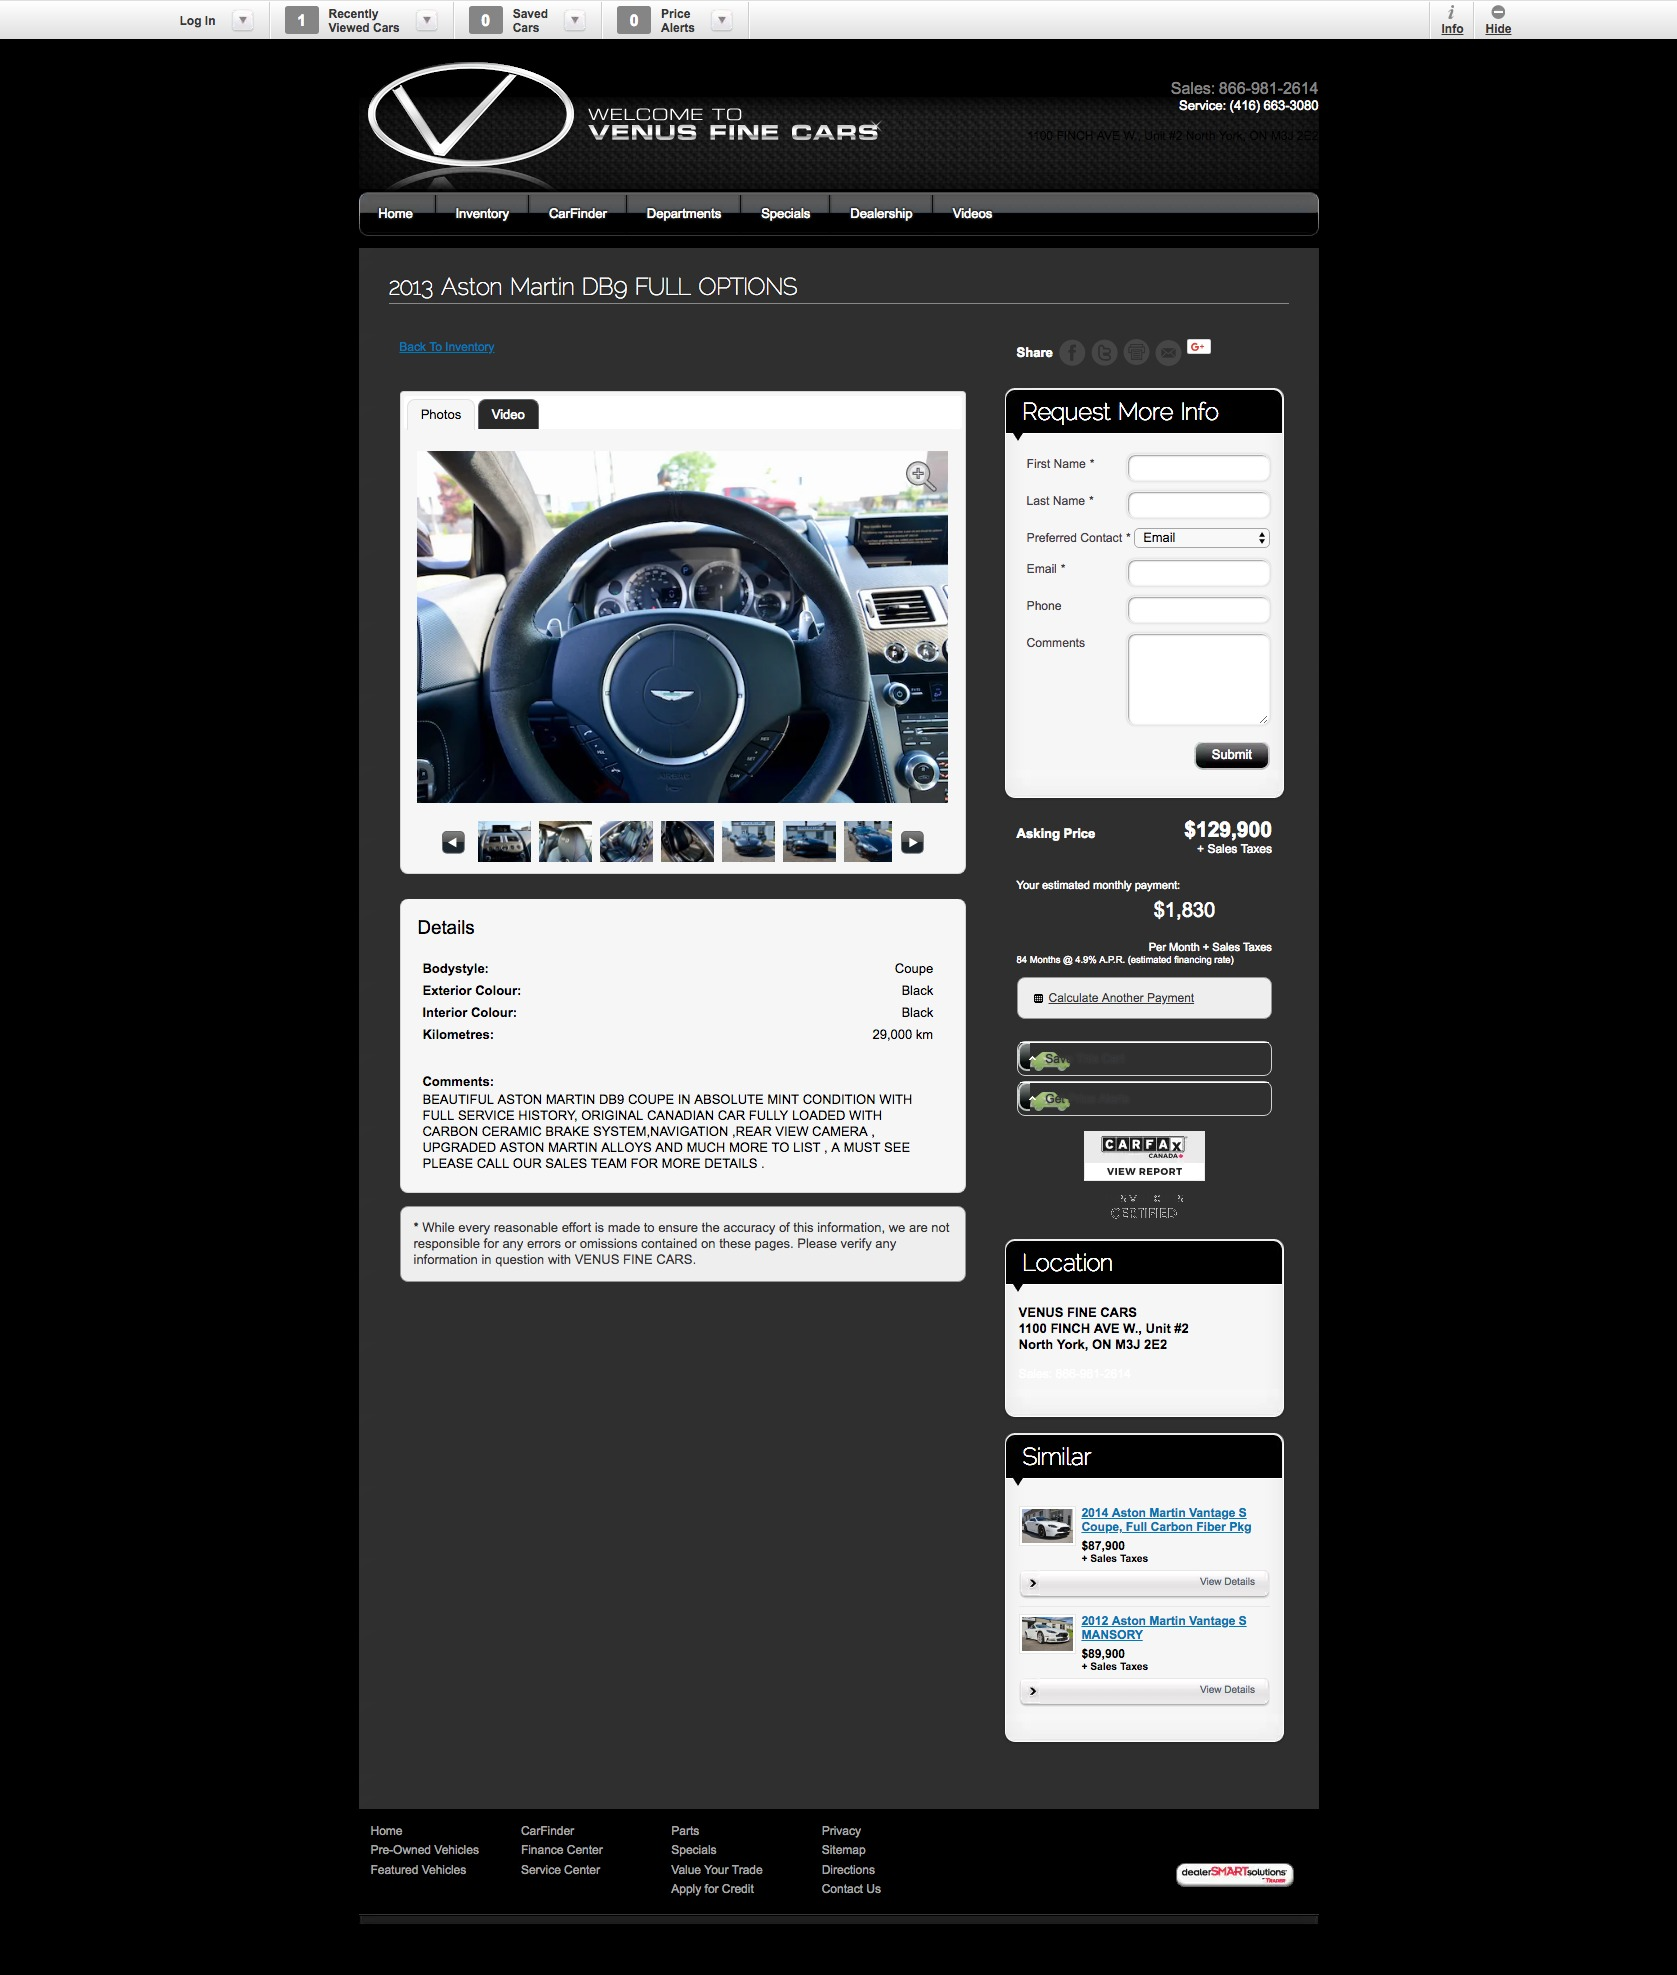car: (908, 839, 918, 849)
